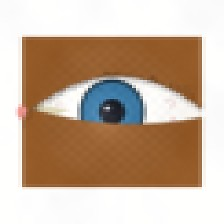pterygium_lesion: (22, 91, 73, 133)
